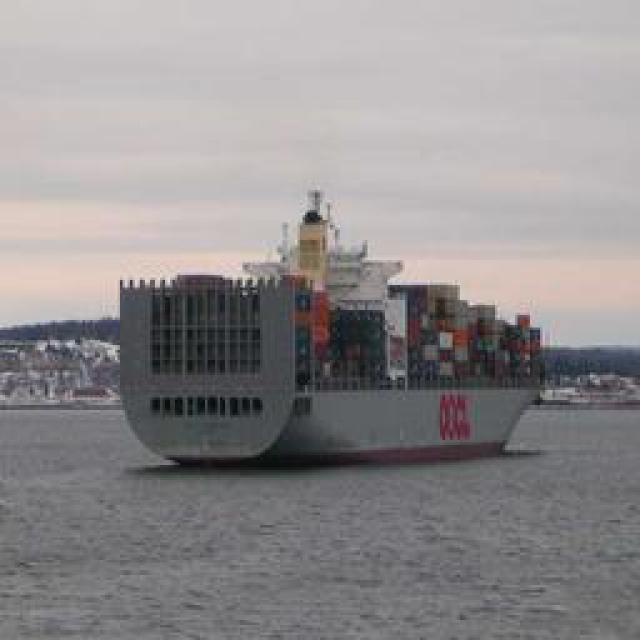Ship: (117, 176, 567, 469)
